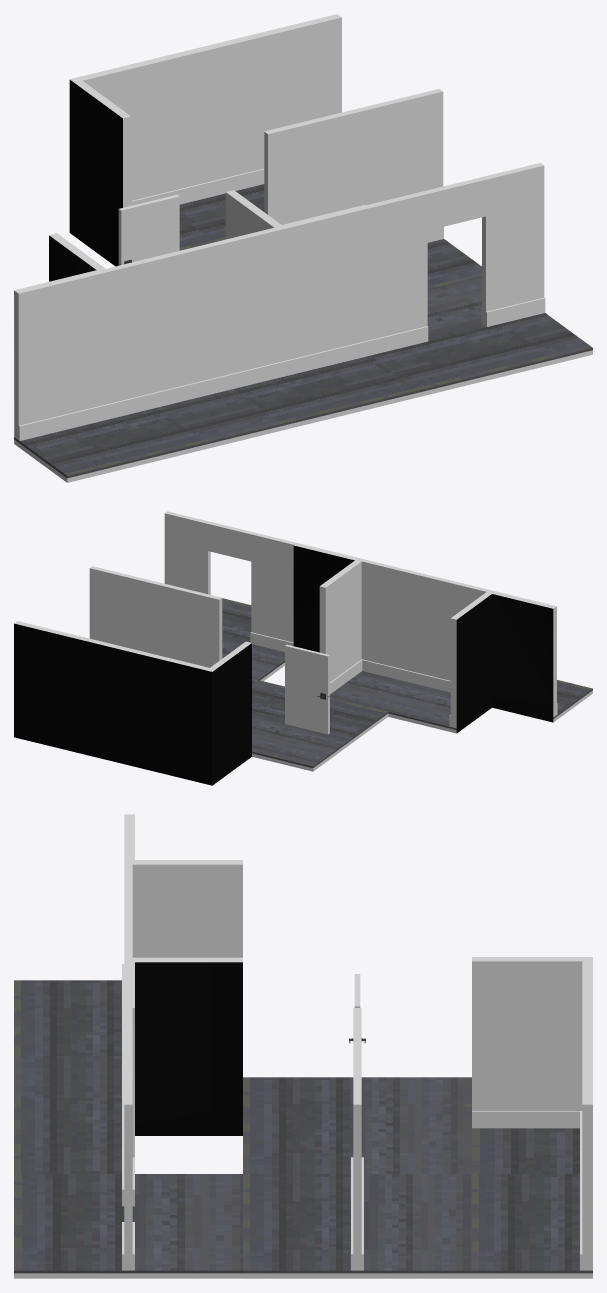
Rendered from building_blocks.glb.
The picture shows the model from 3 angles, top to bottom: view 1: azimuth 30°, elevation 25°; view 2: azimuth 150°, elevation 25°; view 3: azimuth 270°, elevation 25°; orthographic projection. The views are drawn at different scales.
Parts seen in each view (by area): view 1: tee-left-col, tee-right-col, doorway-col, wall-half-col, wall-col, corner-col, door-col; view 2: tee-left-col, tee-right-col, wall-half-col, corner-col, doorway-col, wall-col, floor-col, door-col; view 3: tee-right-col, doorway-col, wall-col, corner-col, tee-left-col, floor-col, wall-half-col.
Boxes of the visible parts, x1,y1,x2,y2 form: tee-left-col: (14,233,242,482); tee-right-col: (190,190,417,439); doorway-col: (365,163,592,397); wall-half-col: (162,14,341,241); wall-col: (264,89,481,289); corner-col: (69,57,214,266); door-col: (118,194,179,265); tee-left-col: (388,574,592,733); tee-right-col: (293,543,426,711); wall-half-col: (14,621,146,768); corner-col: (143,641,251,785); doorway-col: (164,511,296,681); wall-col: (89,566,257,684); floor-col: (252,680,388,771); door-col: (285,644,329,734); tee-right-col: (14,911,242,1173); doorway-col: (14,1008,242,1278); wall-col: (243,1008,471,1278); corner-col: (472,957,592,1173); tee-left-col: (14,814,242,1077); floor-col: (243,1077,471,1173); wall-half-col: (472,1008,592,1278).
Size of the model in its own units: 24 by 6.7 by 20.23.
4 materials, 1 textured.
